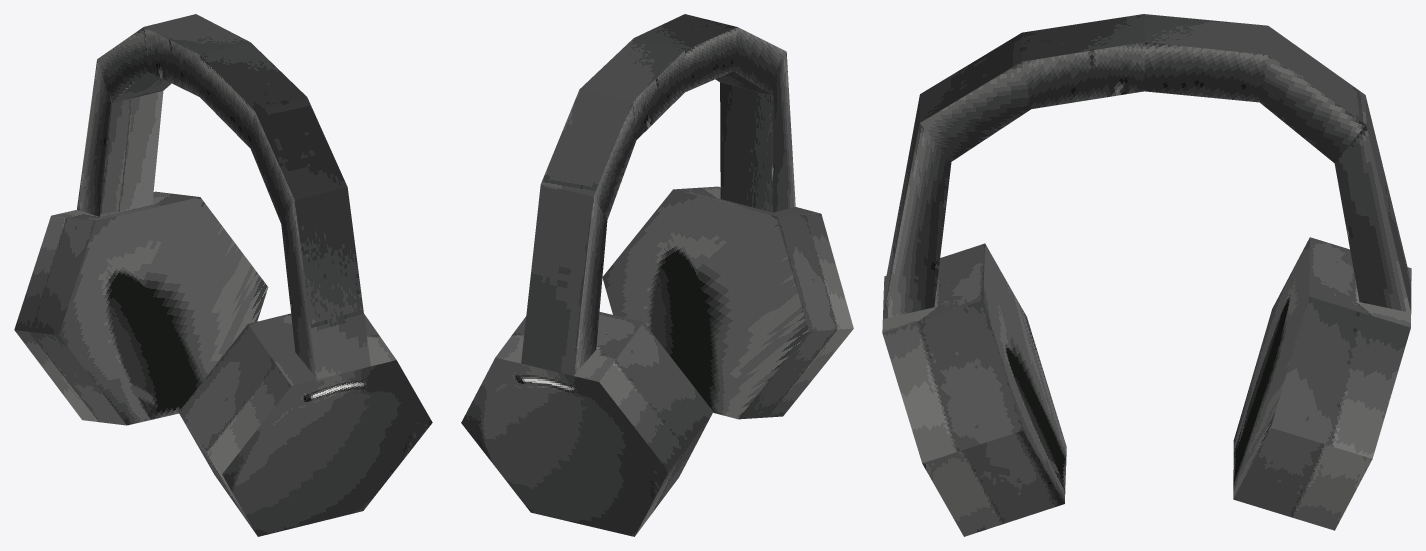
File: psx_headphones.glb
3 views of the same model, side by side, from view 1: azimuth 30°, elevation 25°; view 2: azimuth 150°, elevation 25°; view 3: azimuth 270°, elevation 25° (orthographic). The views are drawn at different scales.
Parts seen in each view (by area): view 1: Cylinder; view 2: Cylinder; view 3: Cylinder.
Part boxes in pixels (left/top/right/bottom): Cylinder: left=14, top=14, right=432, bottom=536; Cylinder: left=461, top=14, right=853, bottom=536; Cylinder: left=882, top=14, right=1411, bottom=536.
Bounding box in the file's own units: 1.25 × 2.26 × 2.27.
Materials: 1 (1 with a texture image).
